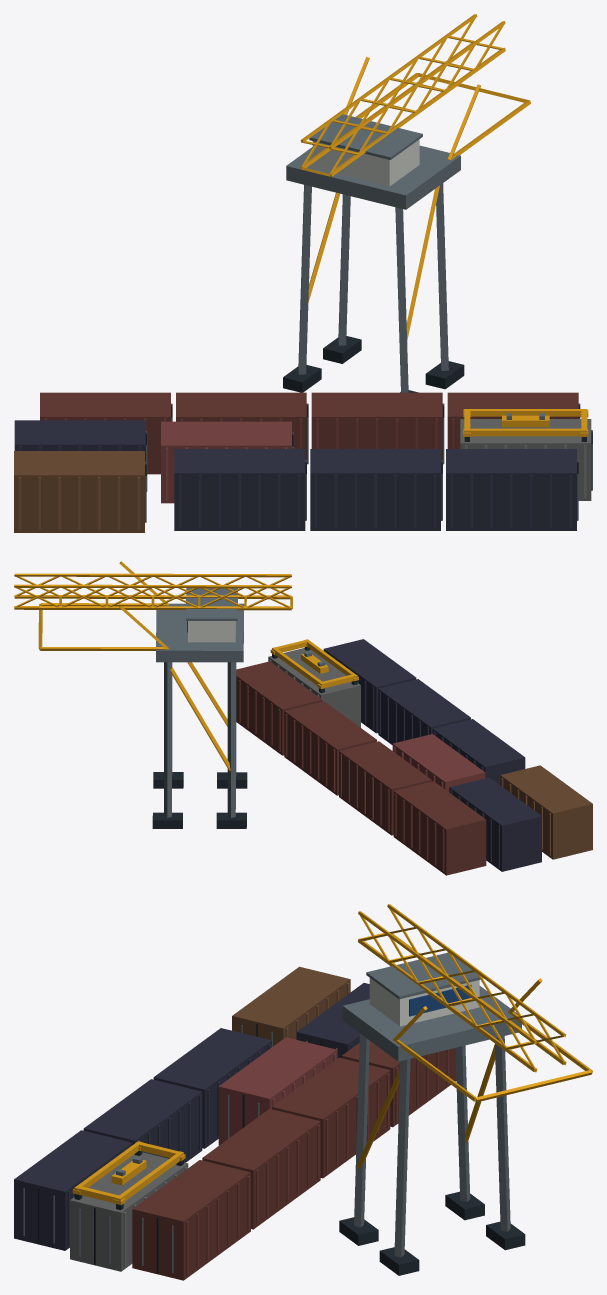
Rendered from SeaportSystem-02-ShipToShoreGantryCrane-01-20Footer-3-04.glb.
3 views of the same model, one above another, from view 1: azimuth 30°, elevation 25°; view 2: azimuth 150°, elevation 25°; view 3: azimuth 270°, elevation 25° (orthographic). The views are drawn at different scales.
Visible parts, largest first — view 1: SeaportSystem-02-ShipToShoreGantryCrane-01-20Footer-3-04; view 2: SeaportSystem-02-ShipToShoreGantryCrane-01-20Footer-3-04; view 3: SeaportSystem-02-ShipToShoreGantryCrane-01-20Footer-3-04.
Boxes of the visible parts, x1=… form: SeaportSystem-02-ShipToShoreGantryCrane-01-20Footer-3-04: x1=14, y1=14, x2=592, y2=532; SeaportSystem-02-ShipToShoreGantryCrane-01-20Footer-3-04: x1=14, y1=561, x2=592, y2=875; SeaportSystem-02-ShipToShoreGantryCrane-01-20Footer-3-04: x1=14, y1=904, x2=592, y2=1280.
Bounding box in the file's own units: 70.54 × 31.18 × 56.8.
